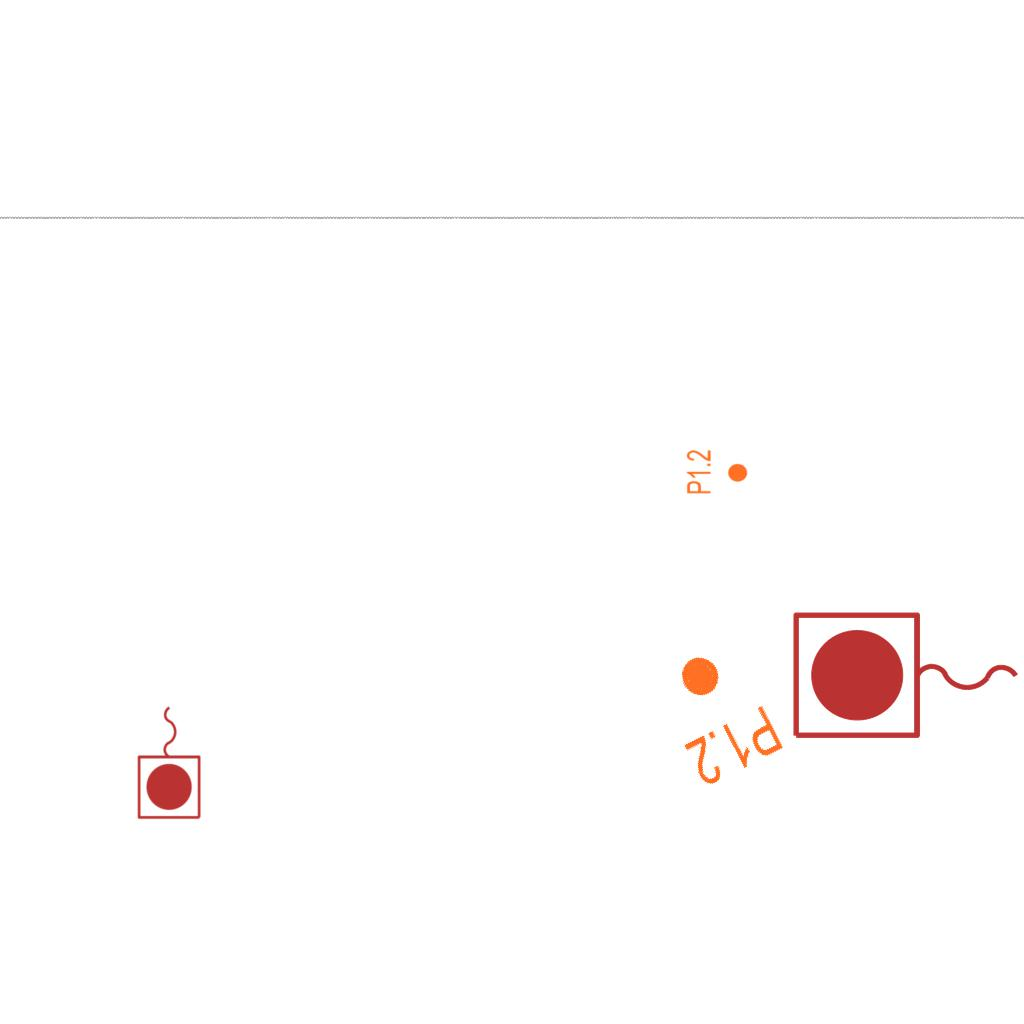Downlight_LED_Einbauleuchten_Flur: (647, 635, 788, 793), (685, 449, 749, 495)
Zugtaster: (785, 605, 1024, 749), (134, 701, 206, 823)
